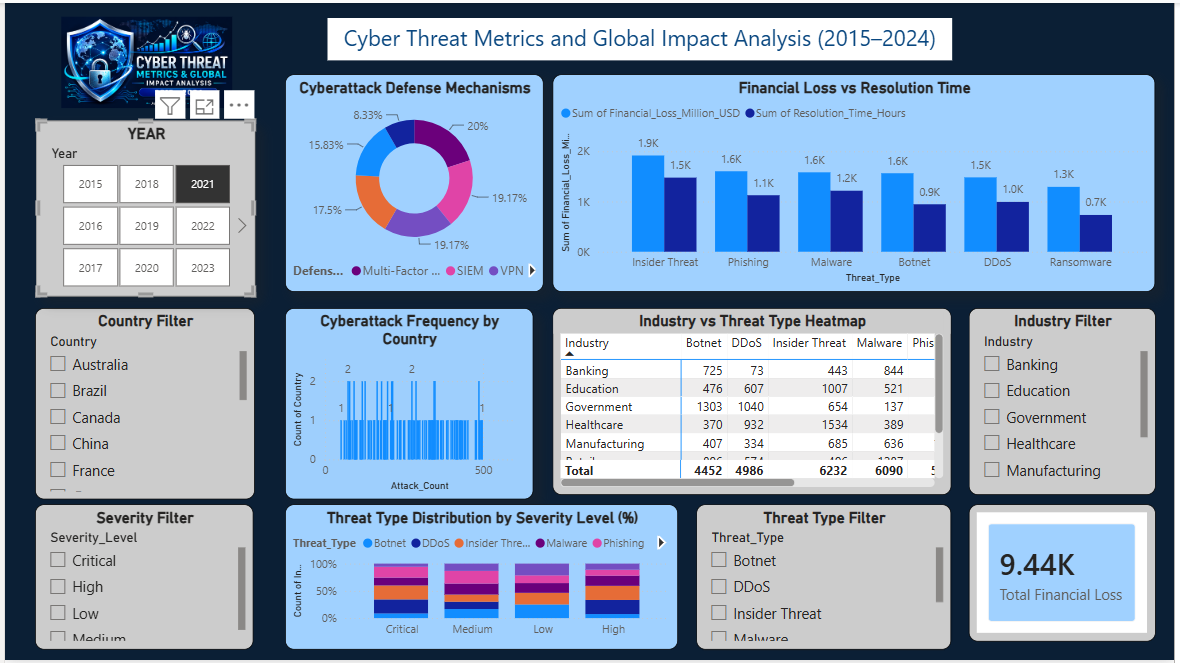

This screenshot's page, from the dashboard's own definition file:
{"tool":"powerbi","page":{"name":"Page 1","canvas":[1280,720],"ordinal":0},"visuals":[{"type":"cardVisual","fields":{"Data":["Cyber_Threat_Data.Total Financial Loss"]},"box":[1055.1,548.6,204.8,150.2],"z":0},{"type":"donutChart","title":"Cyberattack Defense Mechanisms","fields":{"Category":["Cyber_Threat_Data.Defense_Mechanism"],"Y":["CountNonNull(Cyber_Threat_Data.Incident_ID)"]},"box":[306.6,78.1,283.4,238.6],"z":1000},{"type":"clusteredColumnChart","title":"Financial Loss vs Resolution Time","fields":{"Category":["Cyber_Threat_Data.Threat_Type"],"Y":["Sum(Cyber_Threat_Data.Financial_Loss_Million_USD)","Sum(Cyber_Threat_Data.Resolution_Time_Hours)"]},"box":[599.5,78.2,660.4,238.3],"z":2000},{"type":"clusteredColumnChart","title":"Cyberattack Frequency by Country","fields":{"Y":["CountNonNull(Cyber_Threat_Data.Country)"],"Category":["Cyber_Threat_Data.Attack_Count"]},"box":[306.6,333.9,271.8,209.8],"z":3000},{"type":"pivotTable","title":"Industry vs Threat Type Heatmap","fields":{"Rows":["Cyber_Threat_Data.Industry"],"Columns":["Cyber_Threat_Data.Threat_Type"],"Values":["Sum(Cyber_Threat_Data.Attack_Count)"]},"box":[599.5,333.9,436.9,204.8],"z":4000},{"type":"hundredPercentStackedColumnChart","title":"Threat Type Distribution by Severity Level (%)","fields":{"Category":["Cyber_Threat_Data.Severity_Level"],"Y":["CountNonNull(Cyber_Threat_Data.Incident_ID)"],"Series":["Cyber_Threat_Data.Threat_Type"]},"box":[306.6,548.6,430.7,158.9],"z":5000},{"type":"slicer","title":"Country Filter","fields":{"Values":["Cyber_Threat_Data.Country"]},"box":[33.5,333.9,240.8,209.8],"z":6000},{"type":"slicer","title":"Industry Filter","fields":{"Values":["Cyber_Threat_Data.Industry"]},"box":[1055.1,333.9,204.8,204.8],"z":7000},{"type":"slicer","title":"Threat Type Filter","fields":{"Values":["Cyber_Threat_Data.Threat_Type"]},"box":[757.2,548.6,279.3,158.9],"z":8000},{"type":"slicer","title":"Severity Filter","fields":{"Values":["Cyber_Threat_Data.Severity_Level"]},"box":[33.5,548.6,239.6,158.9],"z":9000},{"type":"textbox","box":[352.8,15.9,684,46.3],"z":10000},{"type":"slicer","title":"YEAR","fields":{"Values":["Cyber_Threat_Data.Year"]},"box":[33.8,129.1,240.1,193],"z":11000},{"type":"image","box":[61.5,15.7,187,100.1],"z":12000}]}

Visuals, with their boxes in screenshot pixels (x1, y1, x2, y2), scaled from the page's 1280x720 canvas onto the 1180x663 screenshot:
cardVisual - Cyber_Threat_Data.Total Financial Loss: <bbox>973, 505, 1161, 643</bbox>
"Cyberattack Defense Mechanisms" donutChart: <bbox>283, 72, 544, 292</bbox>
"Financial Loss vs Resolution Time" clusteredColumnChart: <bbox>553, 72, 1161, 291</bbox>
"Cyberattack Frequency by Country" clusteredColumnChart: <bbox>283, 307, 533, 501</bbox>
"Industry vs Threat Type Heatmap" pivotTable: <bbox>553, 307, 955, 496</bbox>
"Threat Type Distribution by Severity Level (%)" hundredPercentStackedColumnChart: <bbox>283, 505, 680, 651</bbox>
"Country Filter" slicer: <bbox>31, 307, 253, 501</bbox>
"Industry Filter" slicer: <bbox>973, 307, 1161, 496</bbox>
"Threat Type Filter" slicer: <bbox>698, 505, 956, 651</bbox>
"Severity Filter" slicer: <bbox>31, 505, 252, 651</bbox>
textbox: <bbox>325, 15, 956, 57</bbox>
"YEAR" slicer: <bbox>31, 119, 253, 297</bbox>
image: <bbox>57, 14, 229, 107</bbox>
